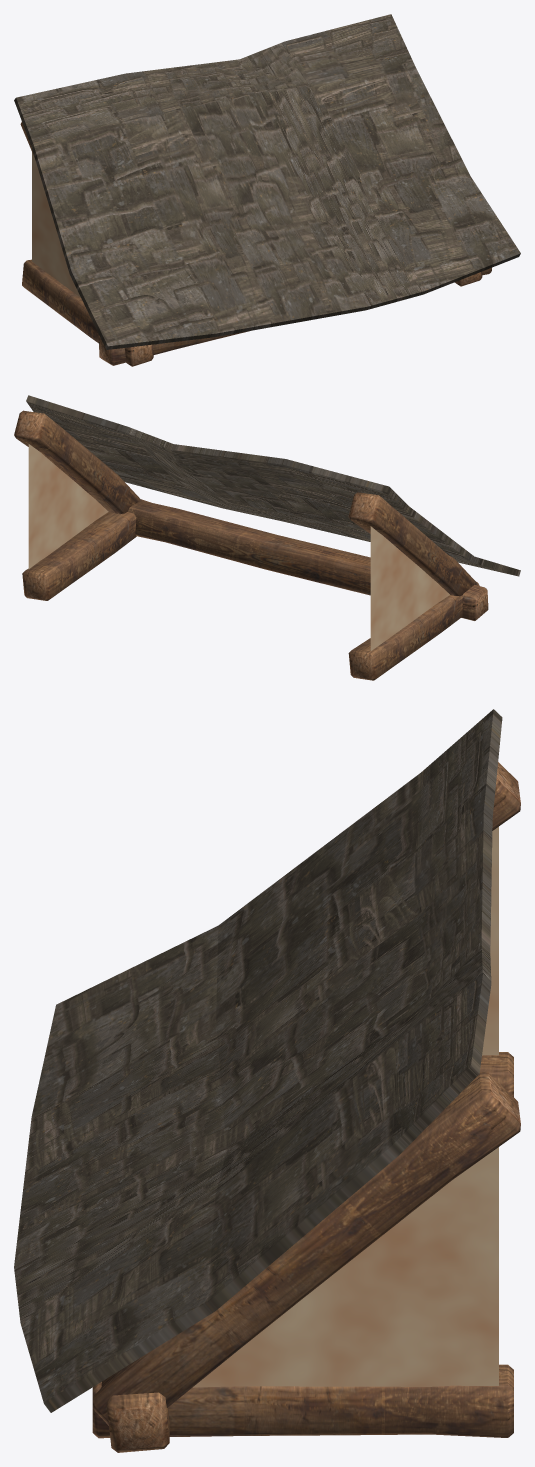
Rendered from Roof 2.fbx.
The picture shows the model from 3 angles, top to bottom: view 1: azimuth 30°, elevation 25°; view 2: azimuth 150°, elevation 25°; view 3: azimuth 270°, elevation 25°; orthographic projection. The views are drawn at different scales.
Parts seen in each view (by area): view 1: Roof 2; view 2: Roof 2; view 3: Roof 2.
Part boxes in pixels (x1,y1,x2,y2): Roof 2: [14, 14, 520, 366]; Roof 2: [14, 395, 520, 680]; Roof 2: [14, 709, 520, 1452].
Bounding box in the file's own units: 5.08 × 2.35 × 2.79.
